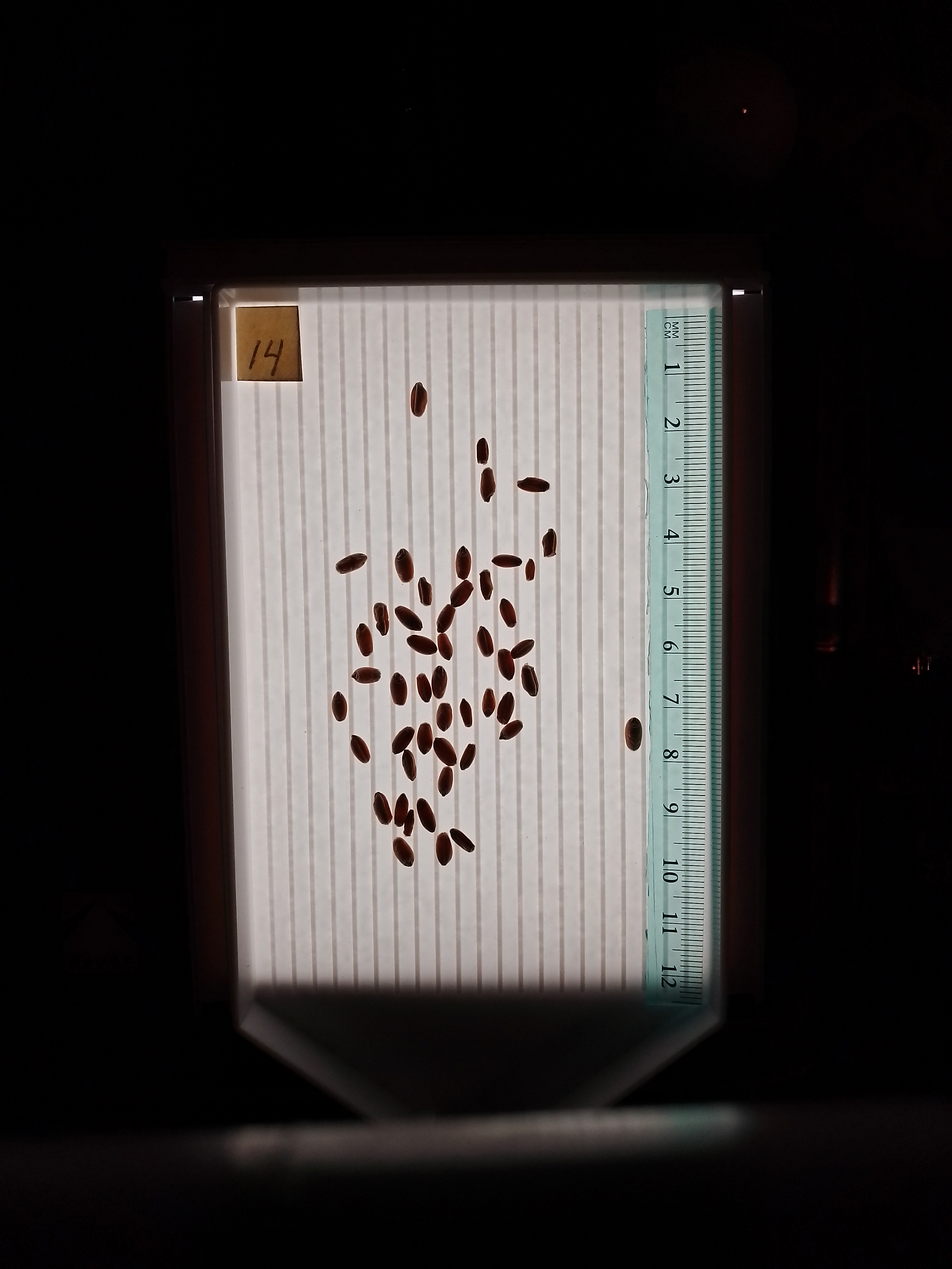seed mask: (395, 606, 422, 632), (395, 549, 414, 583), (417, 799, 436, 832), (336, 554, 366, 574), (625, 718, 643, 751), (410, 383, 428, 416), (373, 793, 392, 824), (435, 738, 456, 766), (394, 838, 414, 867), (450, 582, 473, 607), (455, 547, 472, 579), (351, 735, 370, 763), (451, 829, 474, 852), (522, 665, 539, 696), (393, 727, 413, 753), (408, 635, 435, 654), (391, 674, 407, 705), (356, 624, 372, 655), (436, 834, 452, 865), (518, 477, 549, 493), (498, 649, 514, 679), (374, 603, 389, 635), (498, 694, 514, 724), (437, 605, 454, 633), (477, 627, 493, 656), (353, 667, 380, 684), (500, 599, 516, 627), (437, 703, 453, 731), (481, 469, 495, 501), (395, 795, 409, 826), (332, 693, 347, 721), (500, 721, 522, 740), (418, 724, 432, 753), (395, 797, 409, 826), (438, 768, 453, 795), (512, 639, 534, 657), (402, 752, 416, 780), (417, 675, 431, 703), (461, 744, 476, 770), (418, 578, 432, 605), (543, 530, 557, 557), (433, 667, 446, 696), (438, 634, 453, 659), (493, 555, 521, 568), (480, 571, 492, 598), (483, 690, 495, 717), (477, 438, 489, 464), (461, 700, 472, 726), (403, 810, 414, 834), (525, 561, 535, 580)
